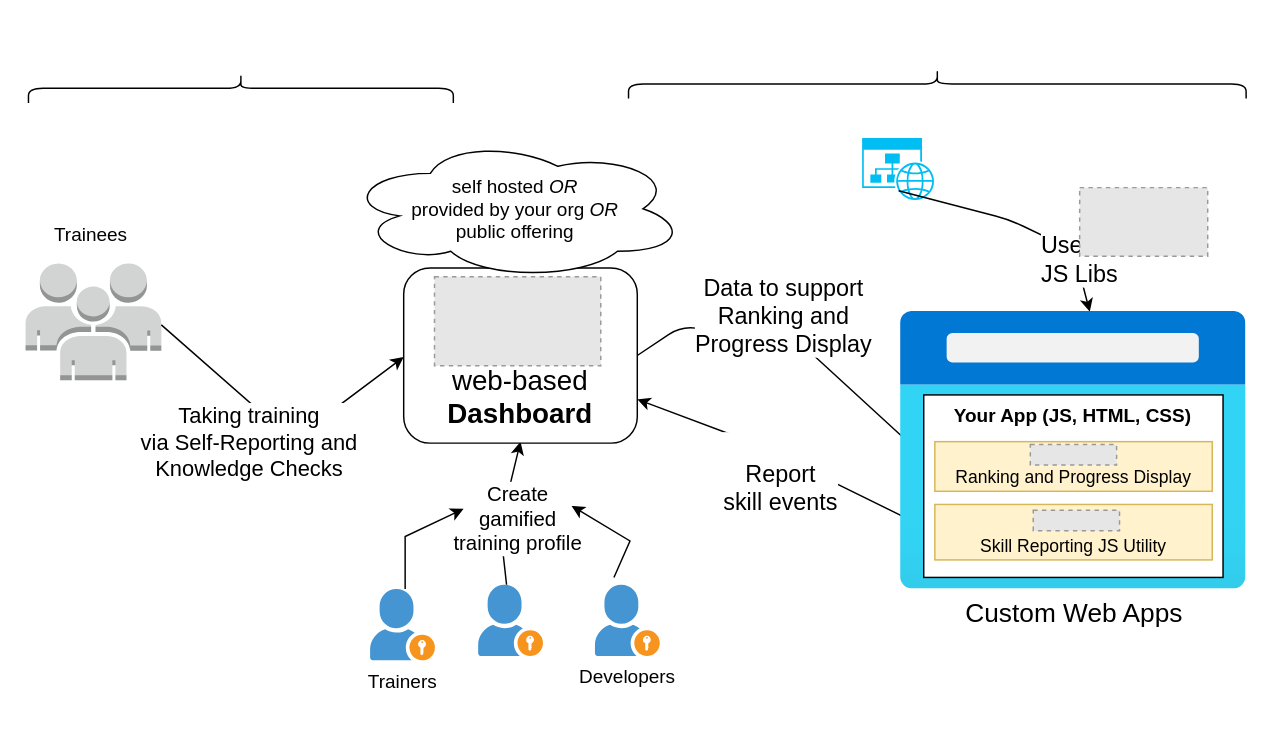
The diagram is 1272 pixels wide and 736 high, and some of its shapes have lost their labels. Grey dashed boxes stand in for pictures. Here are the shapes that lost their labels. From the top down, the centre of each, then its label:
point 240,87: Learning Management System (LMS)
point 936,83: Directly embedding SkillTree's Skills Display
point 897,168: NpmJS.com
point 509,619: System Owners
